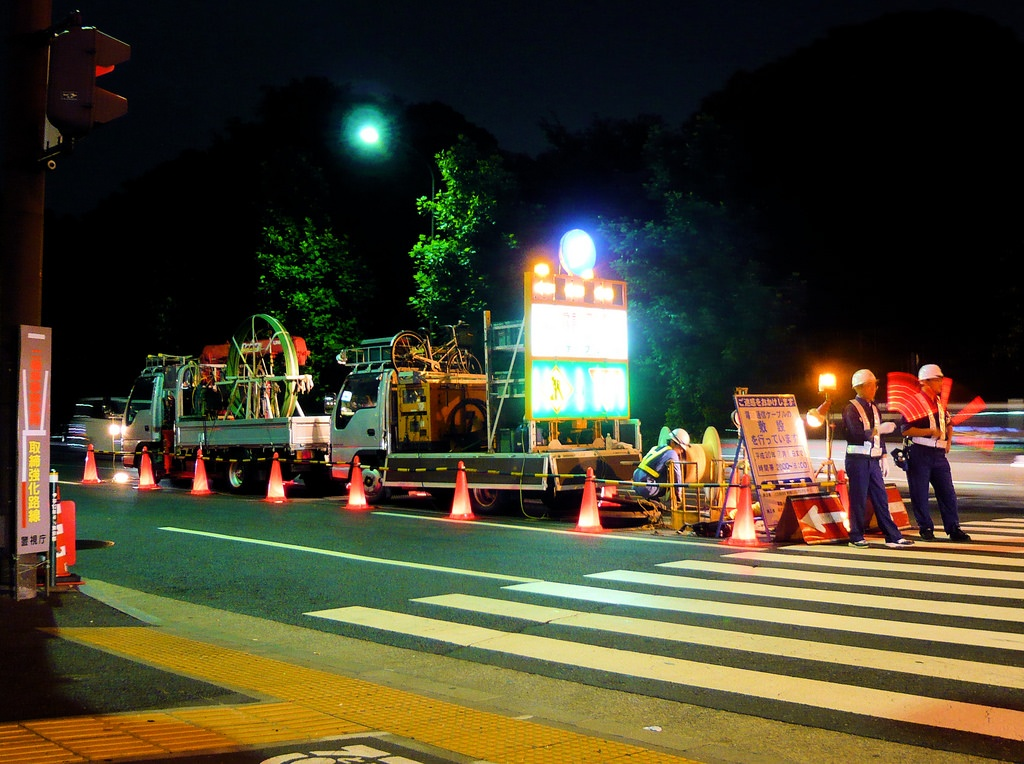white: (916, 363, 948, 396), (848, 367, 879, 401), (666, 426, 690, 455)
